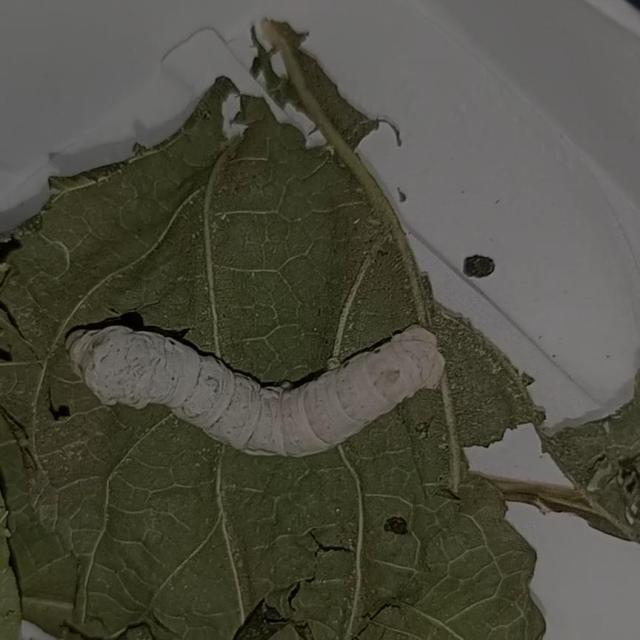Healthy: (31, 289, 481, 486)
